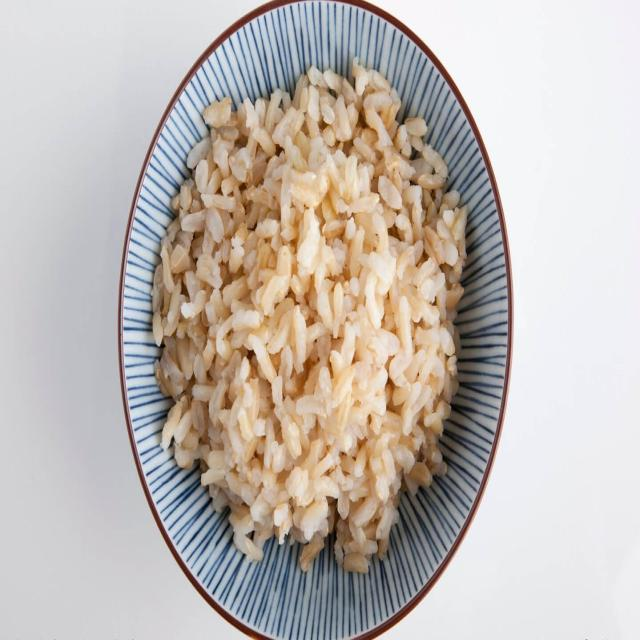arroz: (147, 67, 478, 571)
